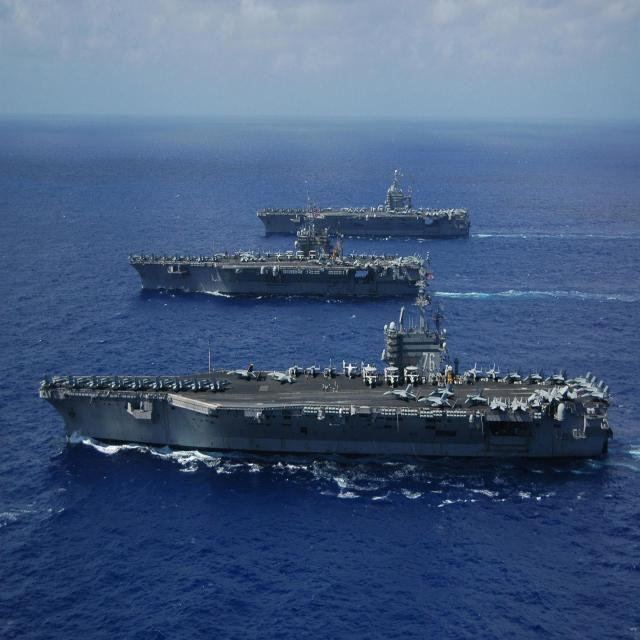navalvessels: (34, 286, 614, 466), (128, 227, 426, 300), (250, 176, 477, 242)
